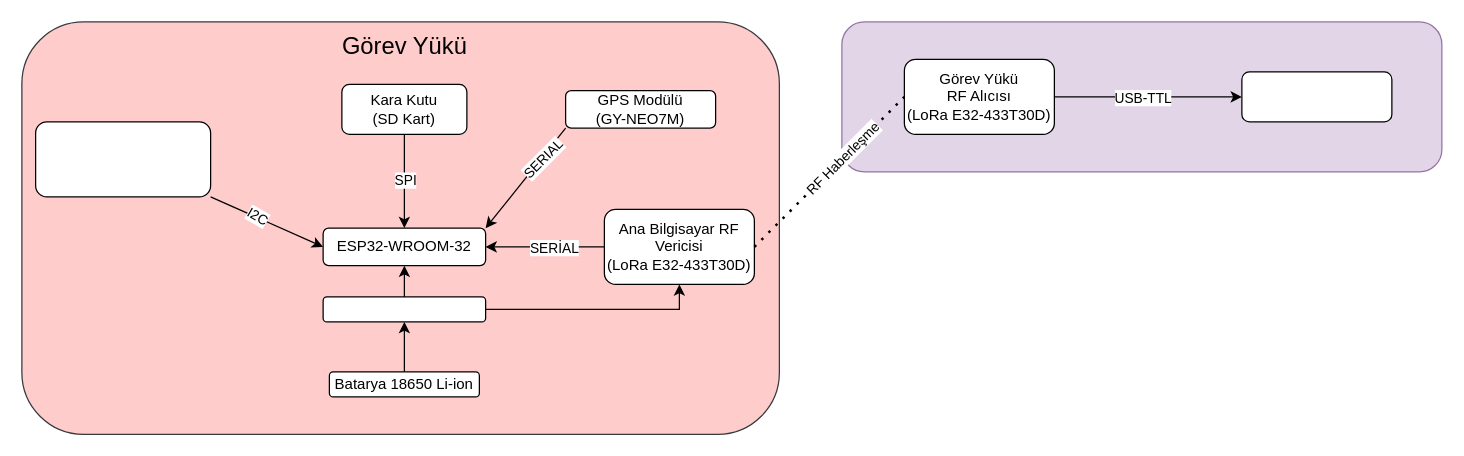
Some shapes in this 1464 by 456 pixel diagram are drawn without their labels. Here are the shapes that lost their labels. From the top down, the box of each, then its label:
(1241, 71, 1392, 122): Bilgisayar
(34, 121, 211, 197): Basınç,Sıcaklık ve Nem Sensörü (BME280)
(322, 296, 486, 322): Regülator (LM2596)
